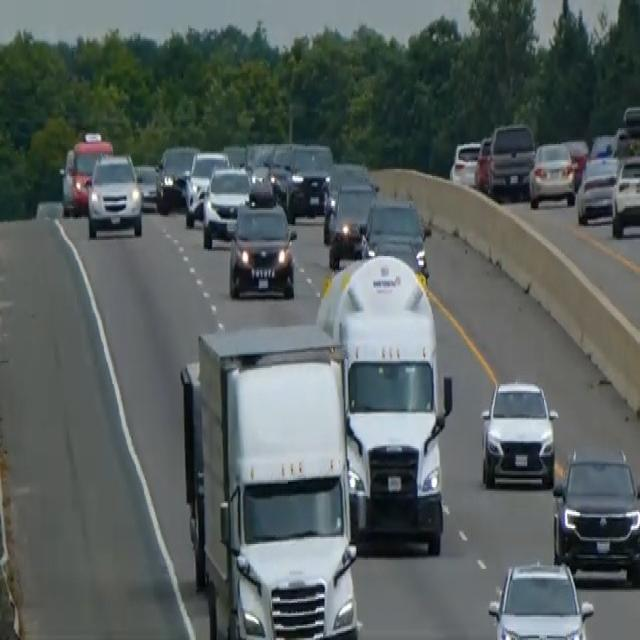car: (551, 441, 639, 581), (479, 377, 558, 489), (487, 556, 594, 638), (227, 190, 297, 300), (360, 194, 429, 279), (86, 151, 143, 238), (324, 178, 378, 266), (60, 130, 113, 217), (201, 163, 252, 249), (487, 119, 536, 199), (183, 150, 230, 228), (287, 142, 332, 217), (528, 139, 575, 208), (576, 153, 619, 224), (155, 142, 197, 212), (322, 158, 368, 215), (610, 151, 639, 238), (449, 137, 481, 187), (562, 137, 589, 188), (615, 103, 639, 157), (58, 146, 76, 213), (134, 162, 158, 210), (473, 135, 492, 192), (588, 132, 615, 160)
lorry: (179, 322, 361, 638), (317, 250, 453, 554)
